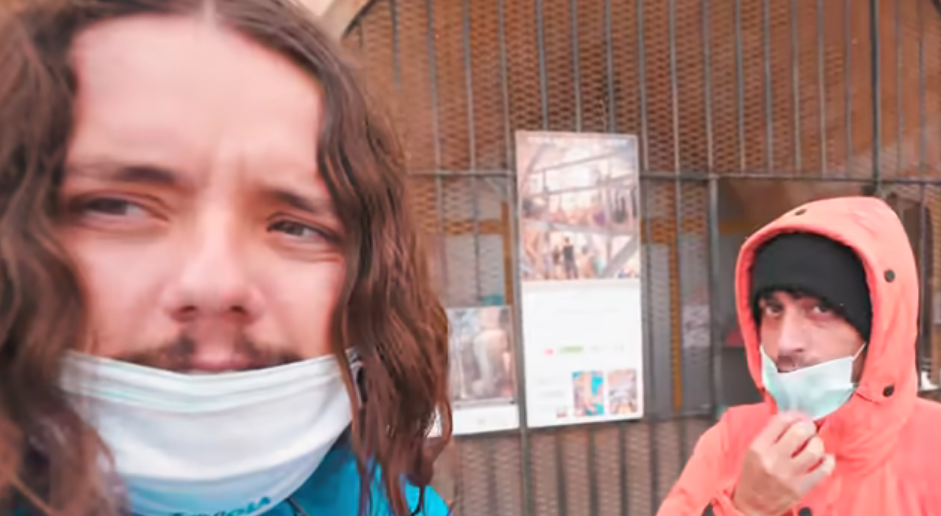with_incorrect_mask: (1, 1, 427, 513), (734, 225, 886, 427)
